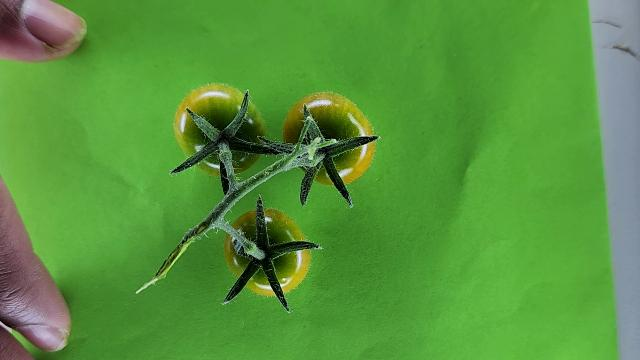Fully Grown: (283, 91, 377, 186), (174, 83, 267, 177), (225, 207, 310, 296)
